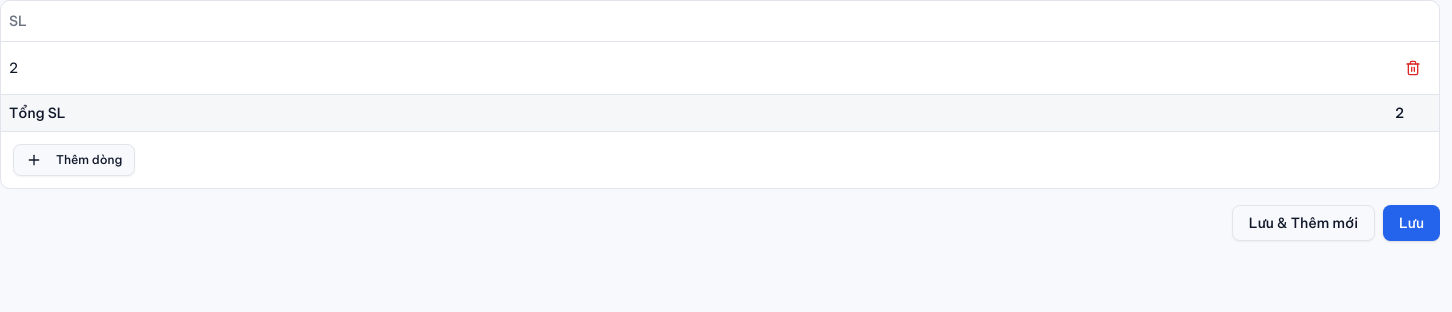
it: LineItemEditor › adds a row via "Thêm dòng" and recomputes totals
Check: the text with test id "total" reads "2", box 1395,104 -> 1404,122
Click the button "Thêm dòng": (74, 160) 13,144 -> 135,176
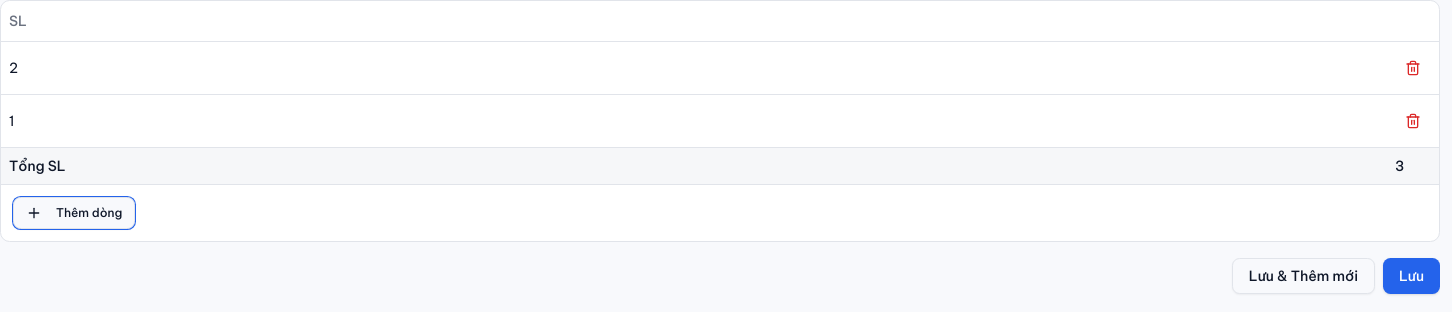
Check: the text with test id "total" reads "3", box 1395,156 -> 1404,174
